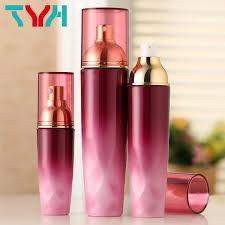Container for household chemicals: (77, 3, 127, 224), (120, 55, 176, 222), (33, 65, 78, 220)
